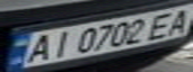0: (75, 25, 100, 54), (109, 19, 133, 47)
2: (124, 15, 154, 44)
7: (93, 21, 115, 51)
A: (18, 33, 57, 64), (160, 6, 193, 36)
E: (145, 10, 181, 39)
I: (42, 29, 75, 60)
